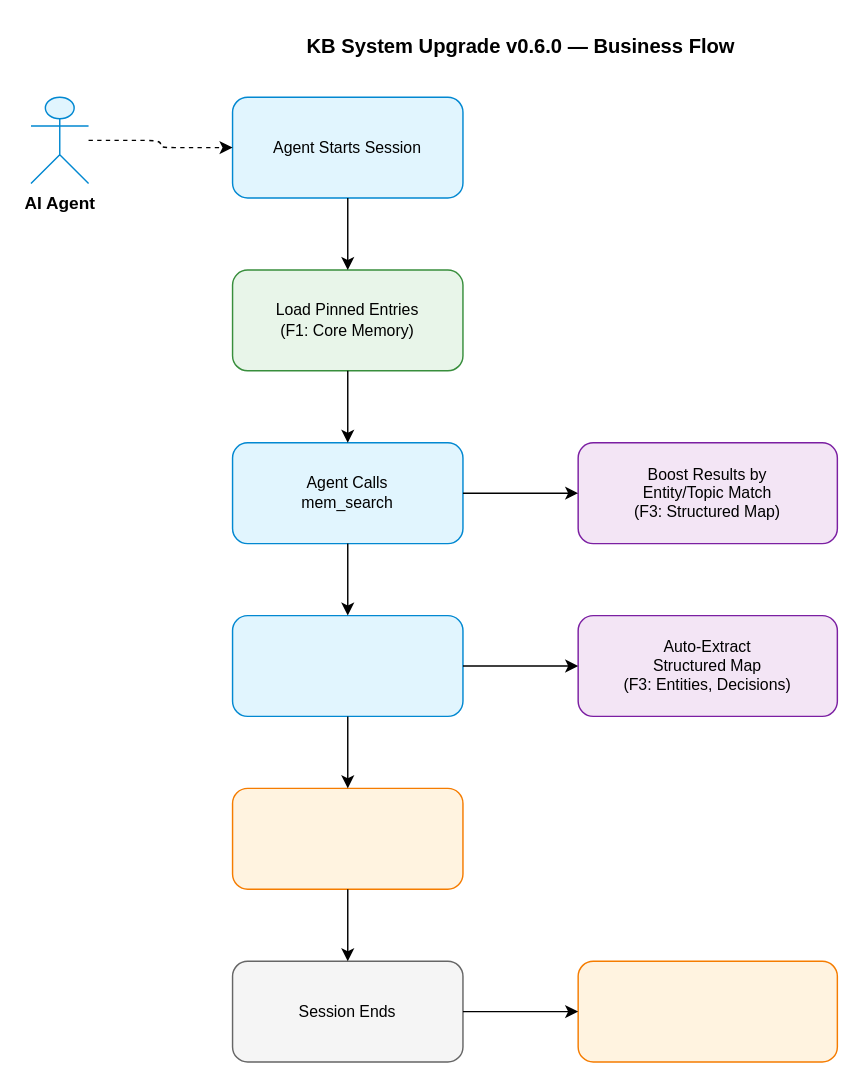
Image size: 863x1087. Some labels were removed from this diagram. The box of each missing label's shape, as (x1, y1, x2, y2) in pixels:
Agent Ingests New Knowledge: (231, 614, 463, 716)
Auto-Summarize Old Turns (F2: Conversation): (577, 960, 837, 1062)
Save Conversation Turn (F2: Structured JSON): (231, 787, 463, 889)
